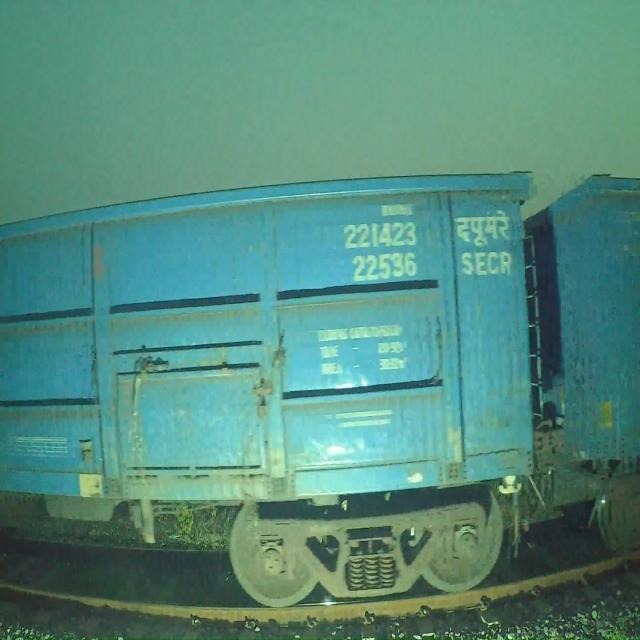WAgon-uic: (0, 171, 536, 606), (455, 172, 640, 547)
uic: (342, 219, 421, 283)
